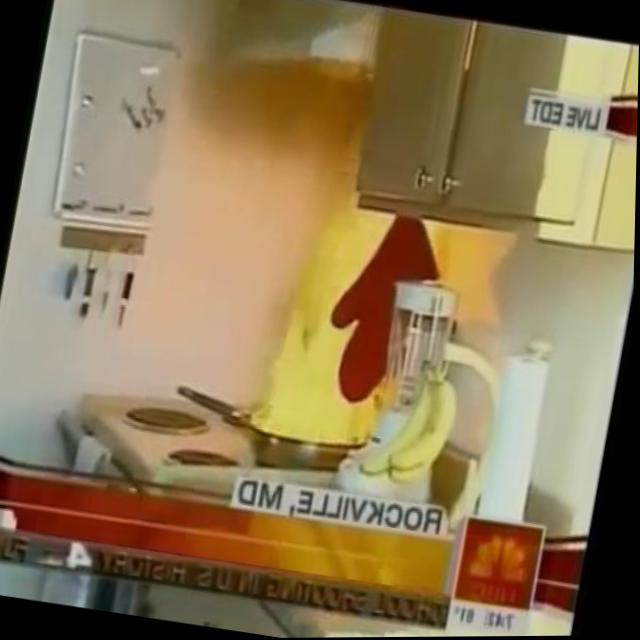fire: (238, 162, 440, 458)
